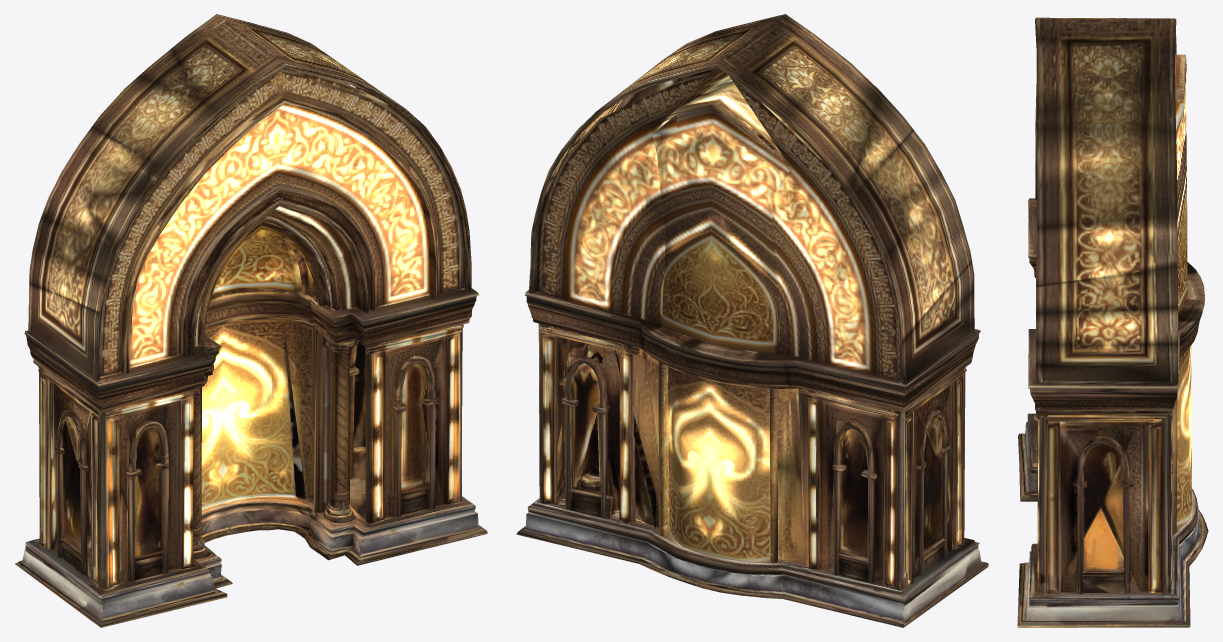
File: Meshy_AI_The_Gilded_Archway_of_0721143657_texture.fbx
The picture shows the model from 3 angles, left to right: view 1: azimuth 30°, elevation 25°; view 2: azimuth 150°, elevation 25°; view 3: azimuth 270°, elevation 25°; orthographic projection.
Parts seen in each view (by area): view 1: Mesh_0; view 2: Mesh_0; view 3: Mesh_0.
Boxes of the visible parts, <box> form: Mesh_0: <box>15,14,487,627</box>; Mesh_0: <box>516,14,988,627</box>; Mesh_0: <box>1017,17,1208,627</box>.
Bounding box in the file's own units: 78.12 × 99.41 × 33.11.
1 material, 1 textured.
